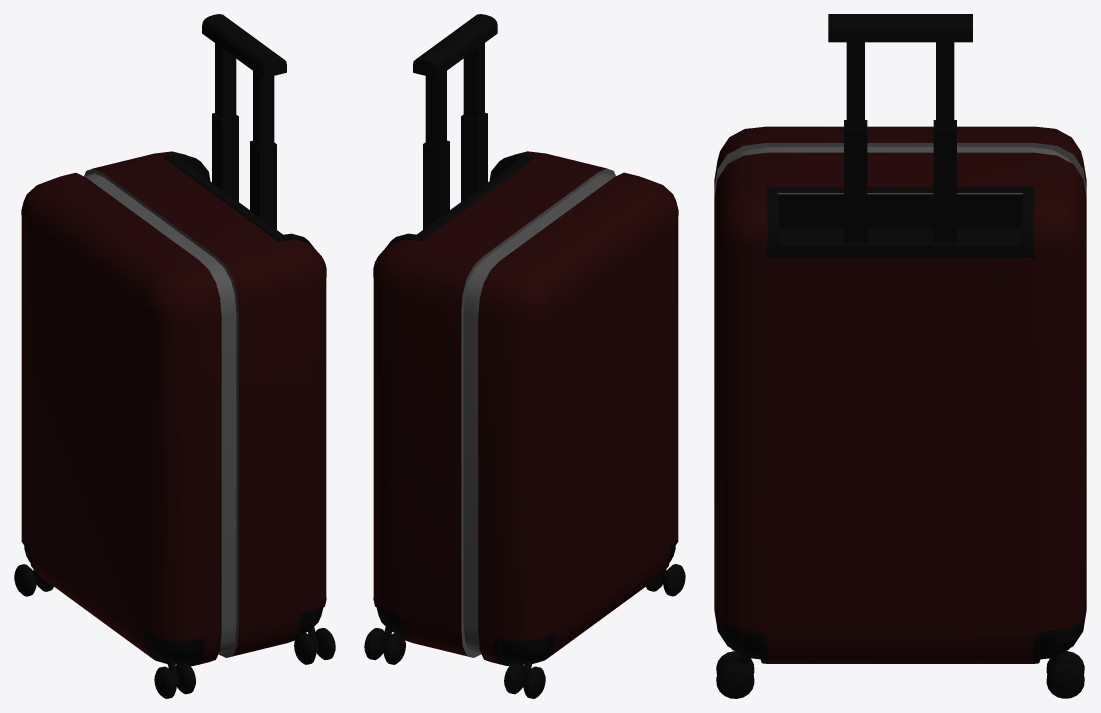
The model's file is valise.fbx.
3 views of the same model, side by side, from view 1: azimuth 30°, elevation 25°; view 2: azimuth 150°, elevation 25°; view 3: azimuth 270°, elevation 25° (orthographic). The views are drawn at different scales.
Parts seen in each view (by area): view 1: Box091; view 2: Box091; view 3: Box091.
Part boxes in pixels (x1,y1,x2,y2): Box091: [14, 14, 335, 698]; Box091: [364, 14, 685, 698]; Box091: [714, 14, 1086, 698].
Size of the model in its own units: 25.38 by 79 by 39.5.
